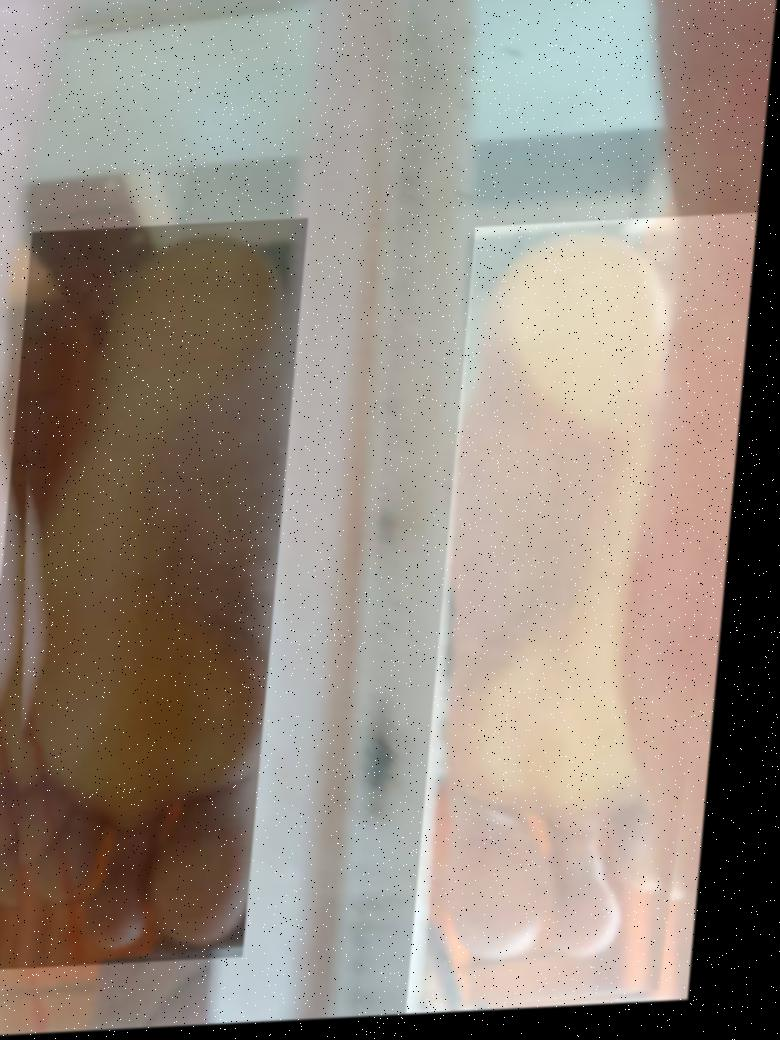Present: (425, 221, 762, 1020), (0, 222, 313, 972)
